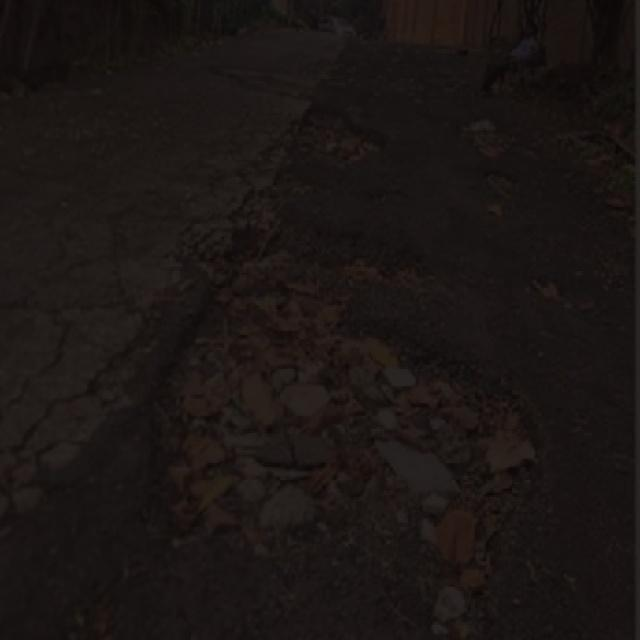Pothole: (135, 199, 554, 640), (272, 96, 376, 169), (464, 106, 528, 167), (483, 164, 525, 201)
